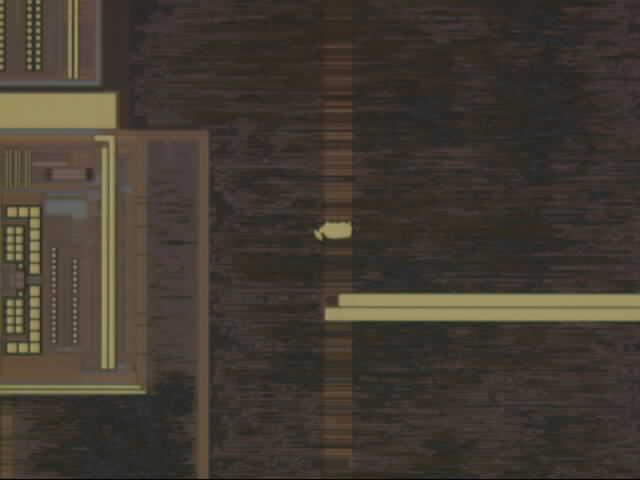BLOCK ETCH: (311, 218, 358, 243)
